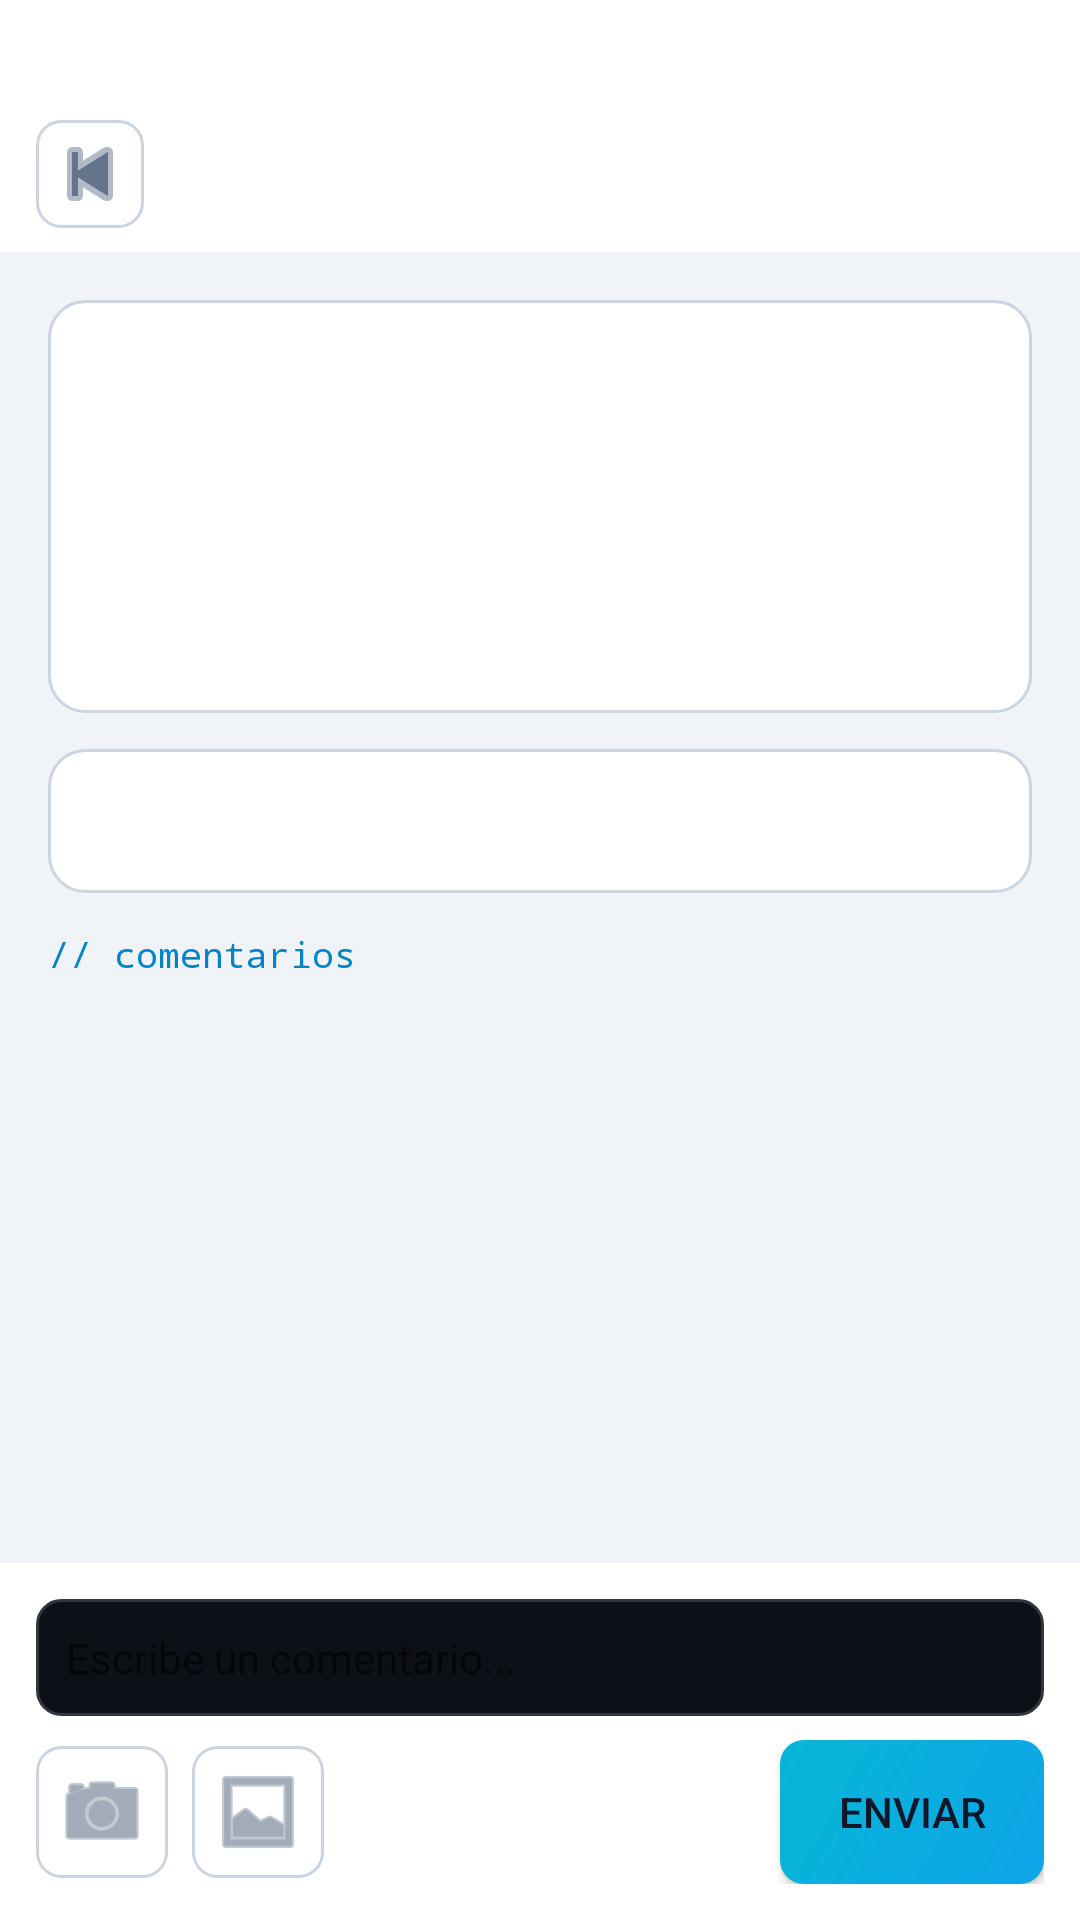

Locate icon controls on the screen. Image size 1080px x 1920px, boxes as (x1, y1, x2, y2).
camera: (36, 1746, 168, 1878)
gallery: (192, 1746, 324, 1878)
previous: (36, 120, 144, 228)
